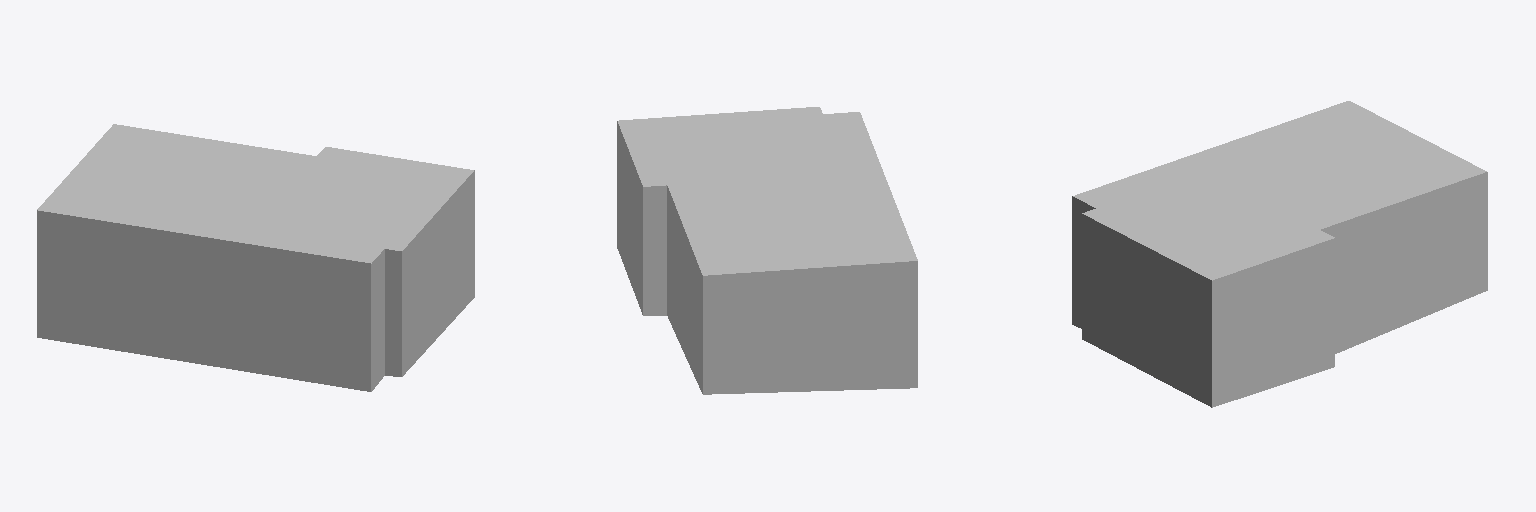
File: Aurora.obj
The picture shows the model from 3 angles: view 1: azimuth 30°, elevation 25°; view 2: azimuth 150°, elevation 25°; view 3: azimuth 270°, elevation 25°; orthographic projection.
Parts seen in each view (by area): view 1: Areas:building.007; view 2: Areas:building.007; view 3: Areas:building.007.
Part boxes in pixels (x1,y1,x2,y2): Areas:building.007: (37,124,474,391); Areas:building.007: (617,107,917,394); Areas:building.007: (1072,101,1487,407).
Bounding box in the file's own units: 126 × 42.61 × 122.